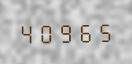five: (94, 19, 112, 43)
four: (18, 20, 36, 44)
nine: (56, 20, 74, 43)
six: (75, 19, 93, 43)
zero: (37, 20, 55, 44)
